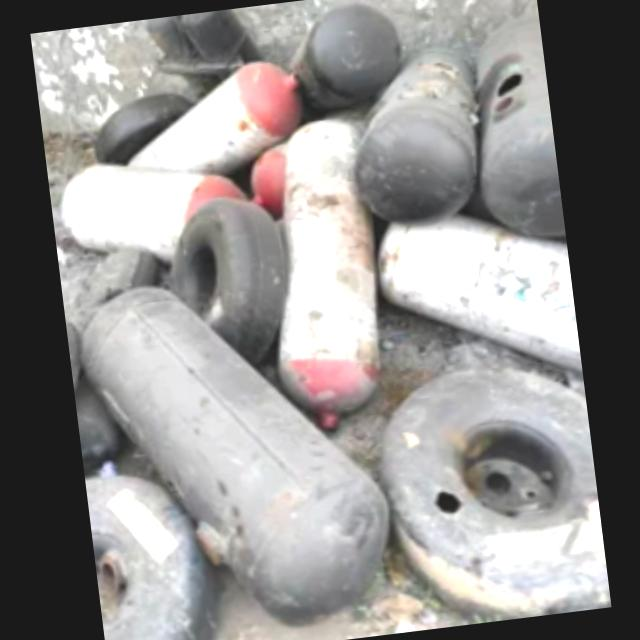Cylinders: (270, 120, 388, 437), (367, 207, 583, 377), (108, 58, 302, 175)
